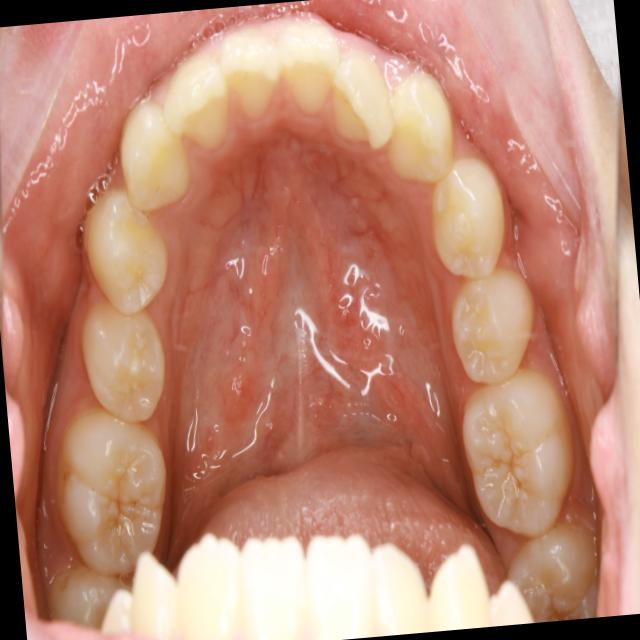tooth: (445, 360, 585, 548), (48, 398, 183, 585), (71, 179, 188, 331), (70, 280, 173, 434), (106, 88, 208, 240), (438, 259, 549, 398), (415, 147, 519, 292), (377, 43, 469, 205), (319, 15, 407, 182), (206, 2, 299, 149), (496, 515, 615, 625), (149, 36, 246, 170), (269, 0, 357, 139), (44, 562, 136, 638)
